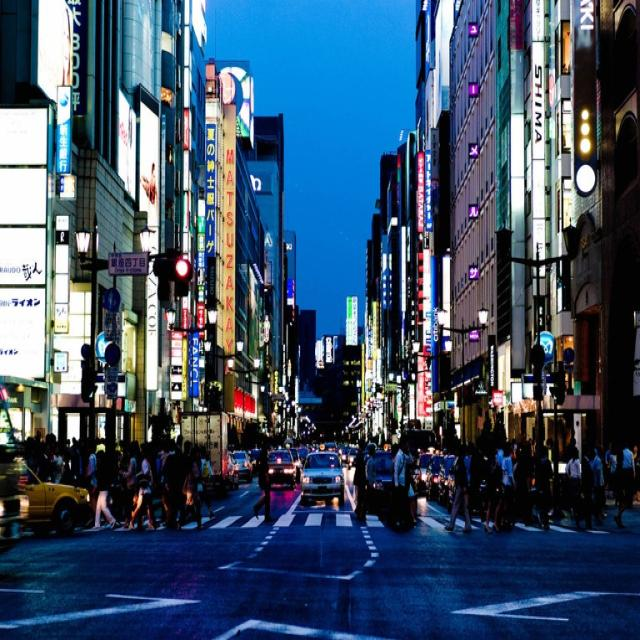body: (17, 427, 216, 533), (478, 429, 558, 532), (595, 434, 640, 509), (444, 439, 475, 535), (252, 434, 276, 525), (392, 436, 415, 528), (128, 450, 154, 530), (91, 449, 116, 532), (54, 5, 74, 102), (118, 445, 138, 531), (399, 438, 419, 524), (351, 434, 368, 525), (565, 444, 583, 518), (590, 444, 607, 521), (137, 161, 159, 217), (580, 447, 597, 501), (365, 442, 377, 488), (621, 442, 636, 478)
